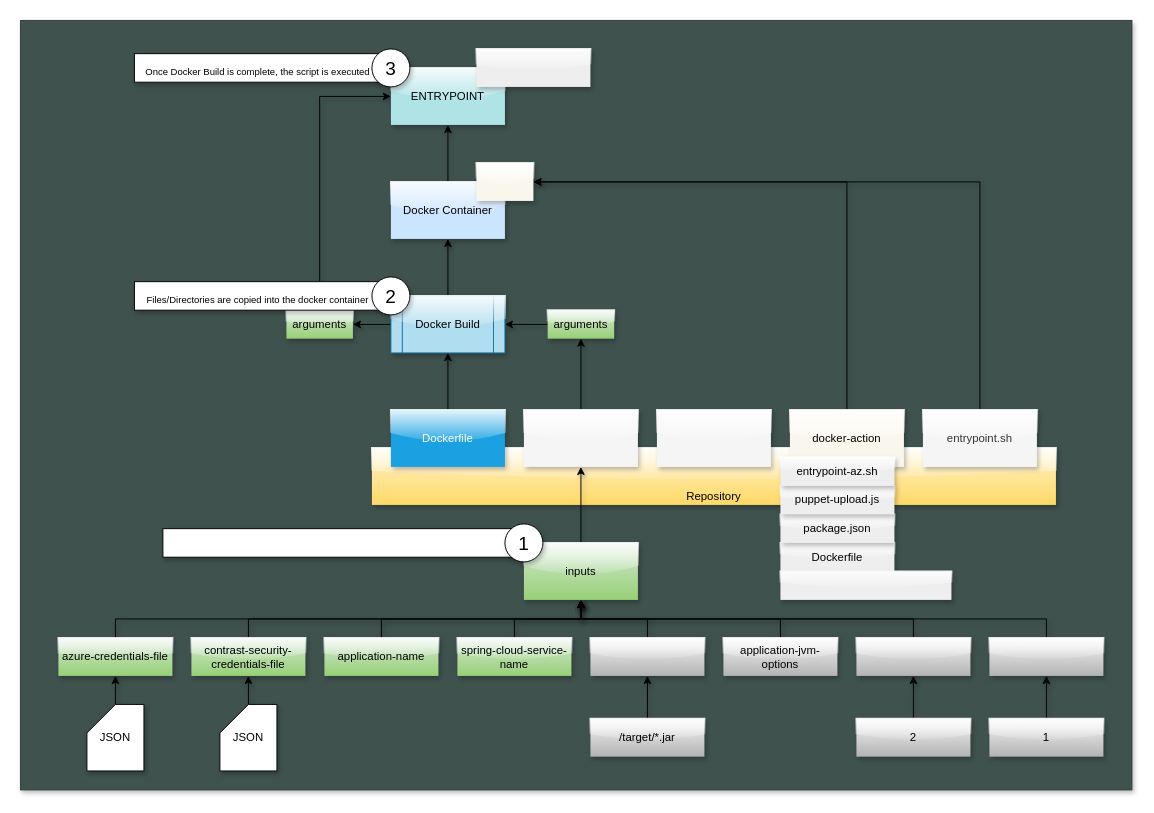
Image size: 1154x813. Some labels were removed from this diagram. Here are the shapes that lost their labels. From the top down, the centre of each, then its label:
At (x=534, y=69): "/usr/bin/entrypoint.sh".
At (x=505, y=183): "/usr/bin/".
At (x=581, y=439): "action.yml".
At (x=714, y=439): "README.md".
At (x=339, y=544): "User input is collected and passed to the initial Docker Build as arguments".
At (x=866, y=586): "file-demo-0.0.1-SNAPSHOT.jar".
At (x=648, y=658): "application-artifact-location".
At (x=914, y=658): "application-memory".
At (x=1047, y=658): "application-instance-count".
